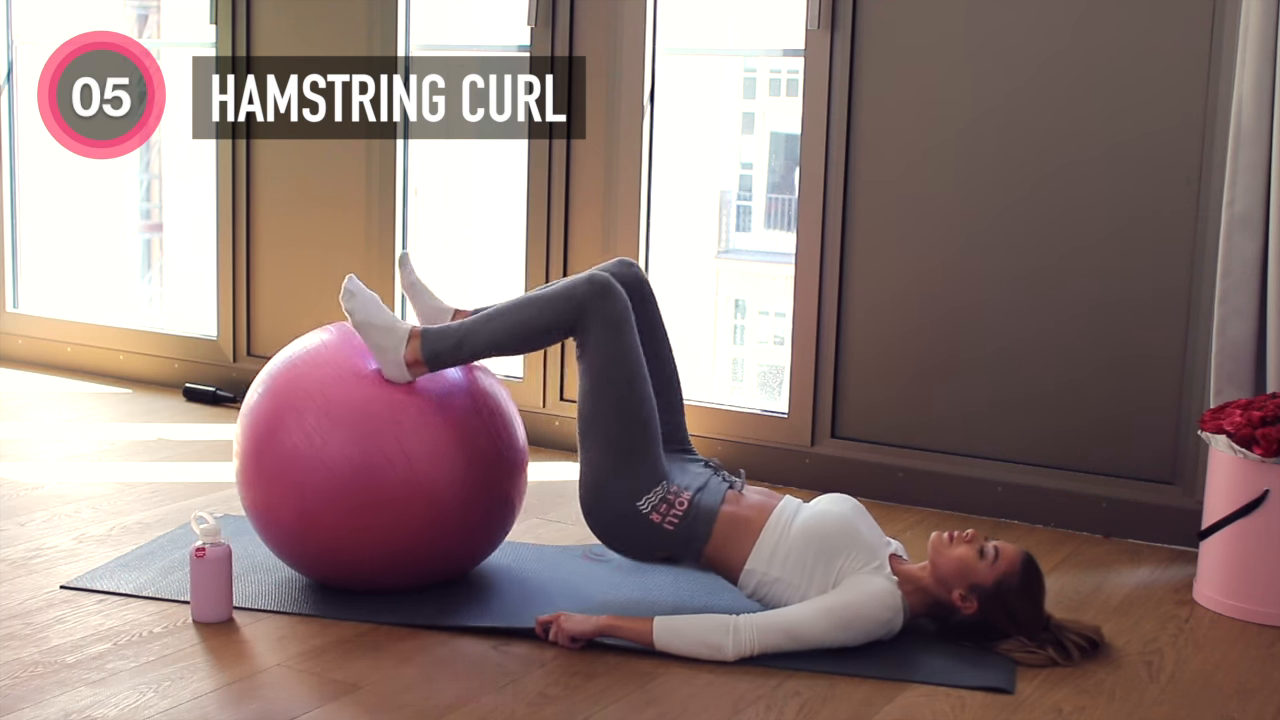yogaball: (226, 318, 536, 597)
